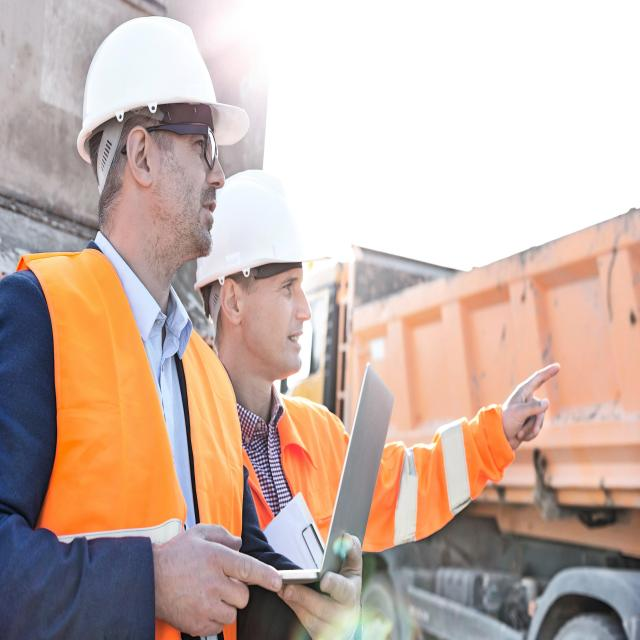Reflective-Jacket: (3, 251, 243, 640), (234, 389, 504, 634)
Safety-Helmet: (74, 10, 248, 163), (193, 163, 331, 290)
